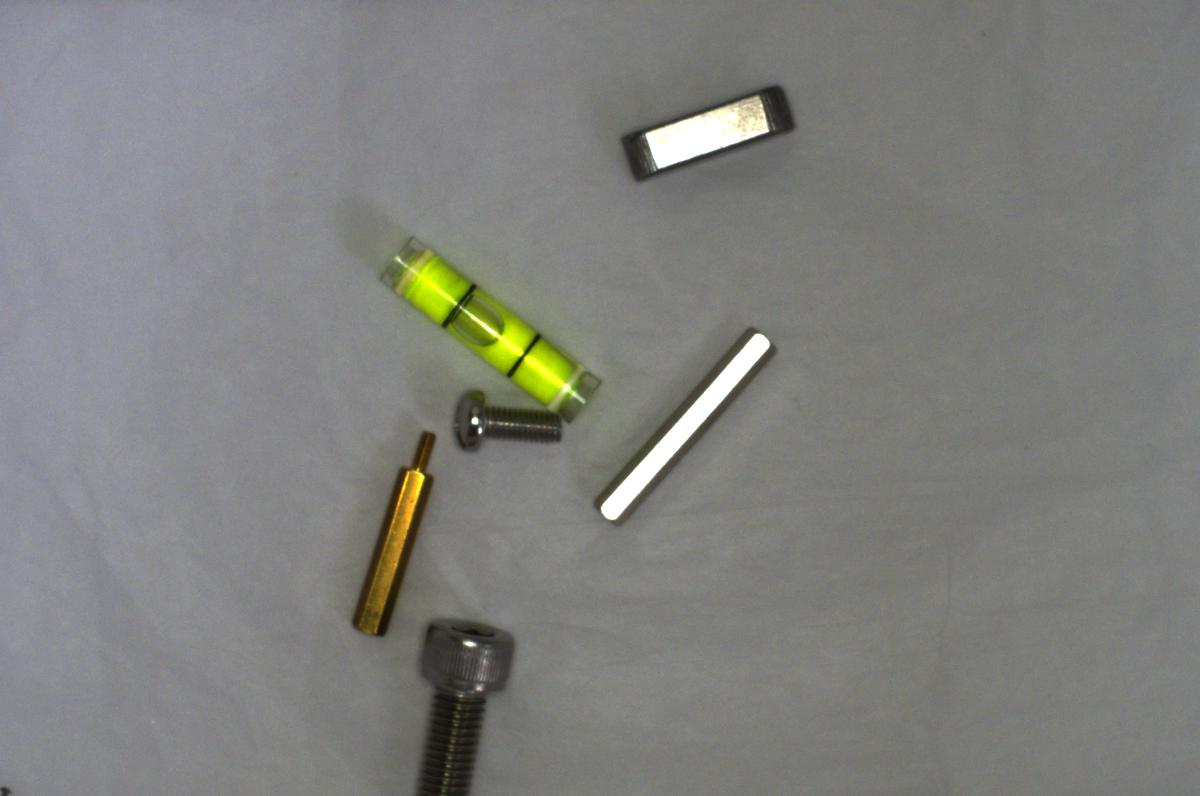Double hexagonal column: (585, 322, 777, 533)
Hexagon pillar: (338, 426, 434, 645)
Hexagon screw: (397, 619, 521, 795)
Horizontal bubble: (370, 226, 600, 421)
Keybar: (613, 83, 799, 179)
Round head screw: (446, 385, 567, 454)
